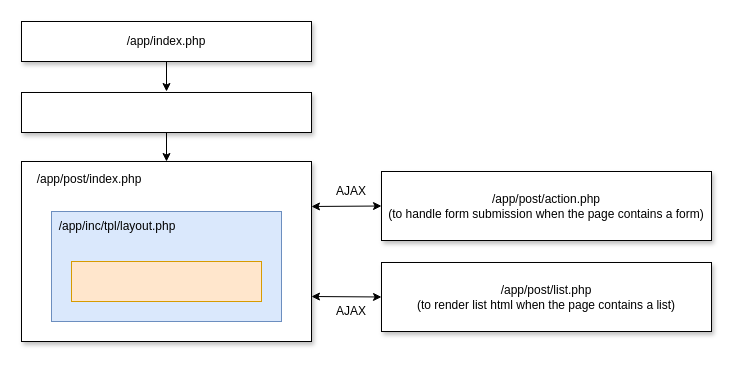
The diagram is 735 pixels wide and 366 high, and some of its shapes have lost their labels. Each missing label, with the centre of its shape:
"/app/post/view.php" belongs at (x=166, y=281).
"/lib/boostrap.php" belongs at (x=167, y=114).
